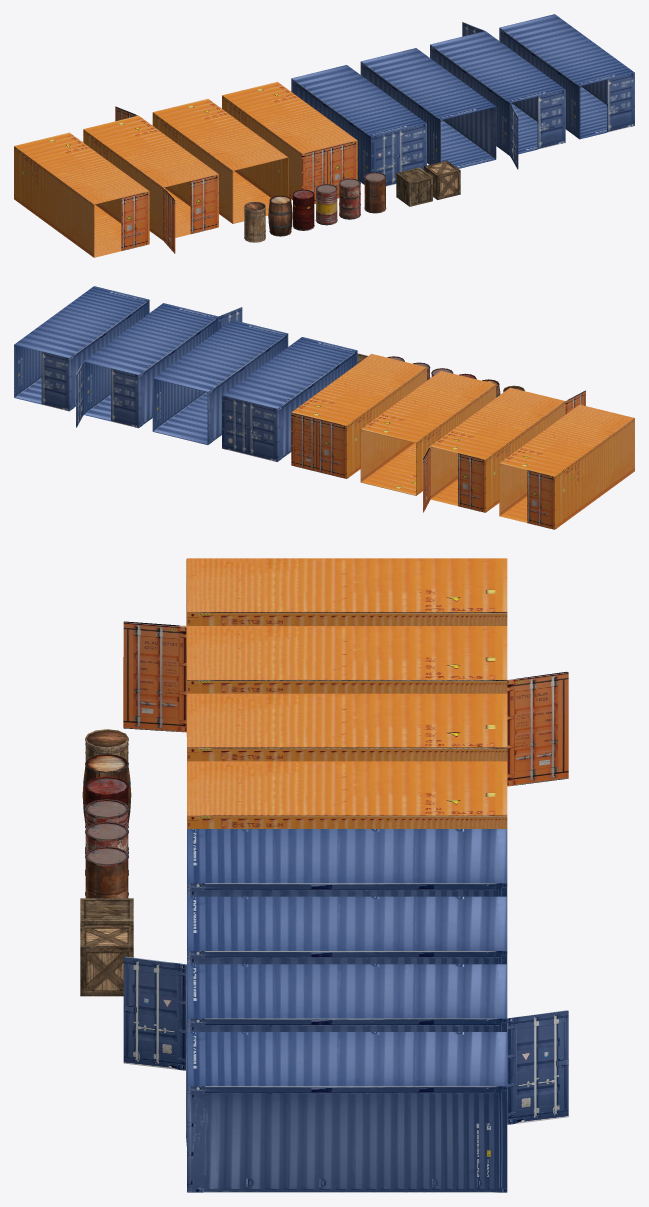
Rendered from containers.glb.
3 renders of one model, top to bottom at view 1: azimuth 30°, elevation 25°; view 2: azimuth 150°, elevation 25°; view 3: azimuth 270°, elevation 25°, orthographic. The views are drawn at different scales.
Parts seen in each view (by area): view 1: container.006_326, container.004_324, container.005_325, container.007_327, container.003_323, container.002_322, container.001_321, container_320, Cube.001_335, Cube_334, Cylinder.004_332, Cylinder.002_330 (+4 smaller); view 2: container.006_326, container.005_325, container.004_324, container.003_323, container_320, container.001_321, container.002_322, container.007_327; view 3: container.007_327, container.004_324, container.005_325, container.002_322, container.003_323, container.006_326, container_320, container.001_321, Cube_334, Cylinder.002_330, Cube.001_335, Cylinder.004_332 (+4 smaller).
Part boxes in pixels (left/top/right/bottom): container.006_326: left=14, top=132, right=149, bottom=257; container.004_324: left=83, top=106, right=218, bottom=253; container.005_325: left=430, top=22, right=565, bottom=169; container.007_327: left=499, top=14, right=634, bottom=139; container.003_323: left=360, top=48, right=496, bottom=168; container.002_322: left=152, top=99, right=288, bottom=223; container.001_321: left=291, top=65, right=426, bottom=186; container_320: left=222, top=82, right=357, bottom=203; Cube.001_335: left=396, top=167, right=432, bottom=206; Cube_334: left=424, top=160, right=460, bottom=199; Cylinder.004_332: left=268, top=195, right=292, bottom=236; Cylinder.002_330: left=364, top=172, right=386, bottom=213; container.006_326: left=499, top=404, right=634, bottom=529; container.005_325: left=76, top=303, right=242, bottom=428; container.004_324: left=423, top=387, right=585, bottom=512; container.003_323: left=152, top=320, right=288, bottom=444; container_320: left=291, top=354, right=426, bottom=478; container.001_321: left=222, top=337, right=357, bottom=461; container.002_322: left=360, top=371, right=496, bottom=495; container.007_327: left=14, top=286, right=149, bottom=411; container.007_327: left=186, top=1032, right=507, bottom=1192; container.004_324: left=123, top=621, right=568, bottom=786; container.005_325: left=123, top=956, right=568, bottom=1124; container.002_322: left=187, top=693, right=507, bottom=761; container.003_323: left=187, top=896, right=507, bottom=964; container.006_326: left=186, top=558, right=507, bottom=625; container_320: left=187, top=761, right=507, bottom=828; container.001_321: left=187, top=829, right=507, bottom=896; Cube_334: left=80, top=925, right=133, bottom=996; Cylinder.002_330: left=85, top=846, right=128, bottom=898; Cube.001_335: left=80, top=898, right=133, bottom=925; Cylinder.004_332: left=82, top=754, right=131, bottom=827.
Bounding box in the file's own units: 23.4 × 2.2 × 9.15.
2 materials, 2 textured.
